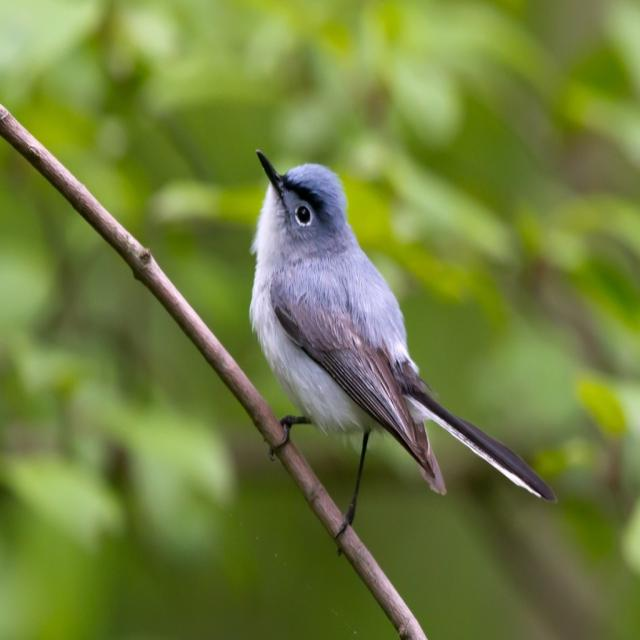bird: (238, 152, 555, 542)
